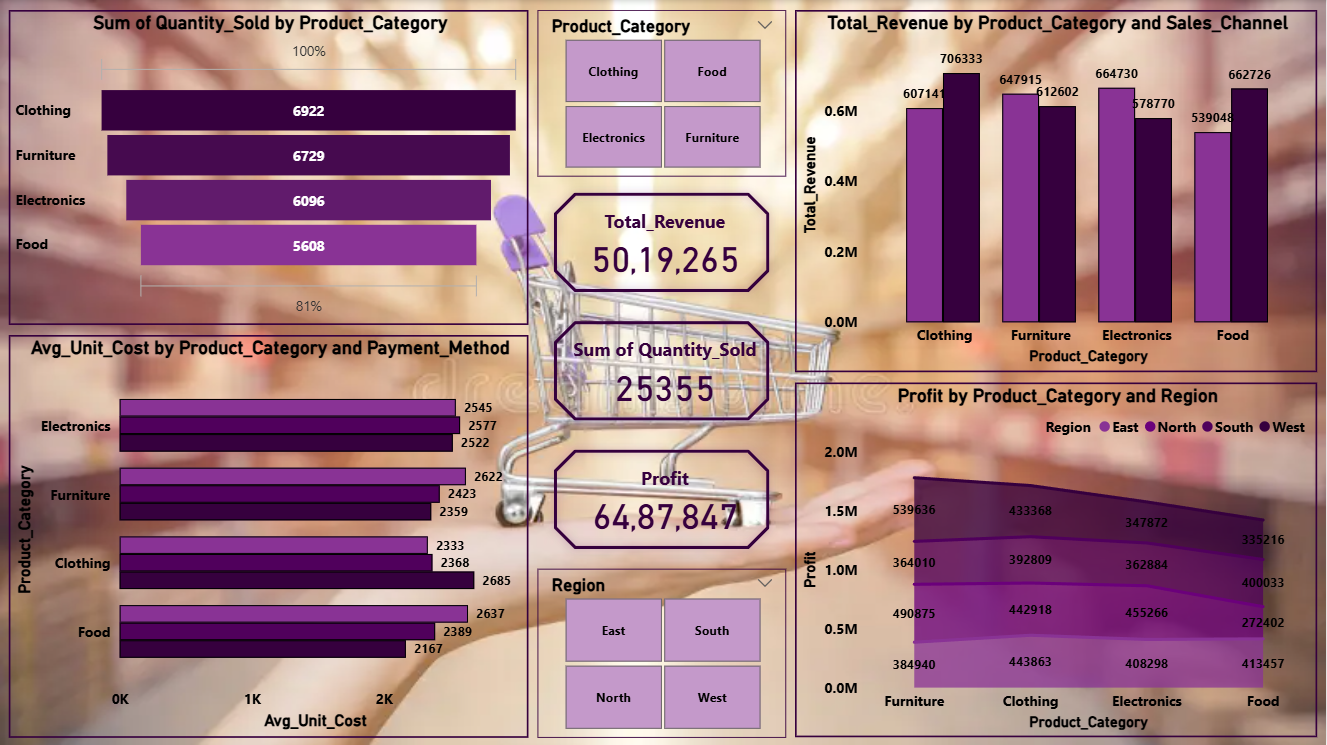

The page's visual inventory and layout, read from the dashboard file:
{"tool":"powerbi","page":{"name":"Page 3","canvas":[1280,720],"ordinal":2},"visuals":[{"type":"clusteredColumnChart","fields":{"Category":["sales.Product_Category"],"Y":["sales.Total_Revenue"],"Series":["sales.Sales_Channel"]},"box":[767.3,9.7,504.3,349.9],"z":0},{"type":"clusteredBarChart","fields":{"Category":["sales.Product_Category"],"Series":["sales.Payment_Method"],"Y":["sales.Avg_Unit_Cost"]},"box":[8.4,323.3,501.9,388.5],"z":1000},{"type":"stackedAreaChart","fields":{"Category":["sales.Product_Category"],"Y":["sales.Profit"],"Series":["sales.Region"]},"box":[767.3,369.2,504.3,342.6],"z":2000},{"type":"funnel","fields":{"Category":["sales.Product_Category"],"Y":["Sum(sales.Quantity_Sold)"]},"box":[8.4,9.7,501.9,304],"z":3000},{"type":"cardVisual","fields":{"Data":["sales.Total_Revenue","Sum(sales.Quantity_Sold)","sales.Profit"]},"box":[518.8,170.1,240.1,378.8],"z":4000},{"type":"slicer","fields":{"Values":["sales.Product_Category"]},"box":[518.8,9.7,240.1,160.5],"z":5000},{"type":"slicer","fields":{"Values":["sales.Region"]},"box":[518.8,548.9,240.1,162.9],"z":6000}]}

Visuals, with their boxes in screenshot pixels (x1, y1, x2, y2), scaled from the page's 1280x720 canvas onto the 1327x745 screenshot:
clusteredColumnChart - sales.Product_Category x sales.Total_Revenue: bbox=(795, 10, 1318, 372)
clusteredBarChart - sales.Product_Category x sales.Payment_Method: bbox=(9, 335, 529, 737)
stackedAreaChart - sales.Product_Category x sales.Profit: bbox=(795, 382, 1318, 737)
funnel - sales.Product_Category x Sum(sales.Quantity_Sold): bbox=(9, 10, 529, 325)
cardVisual - sales.Total_Revenue x Sum(sales.Quantity_Sold): bbox=(538, 176, 787, 568)
slicer - sales.Product_Category: bbox=(538, 10, 787, 176)
slicer - sales.Region: bbox=(538, 568, 787, 737)
